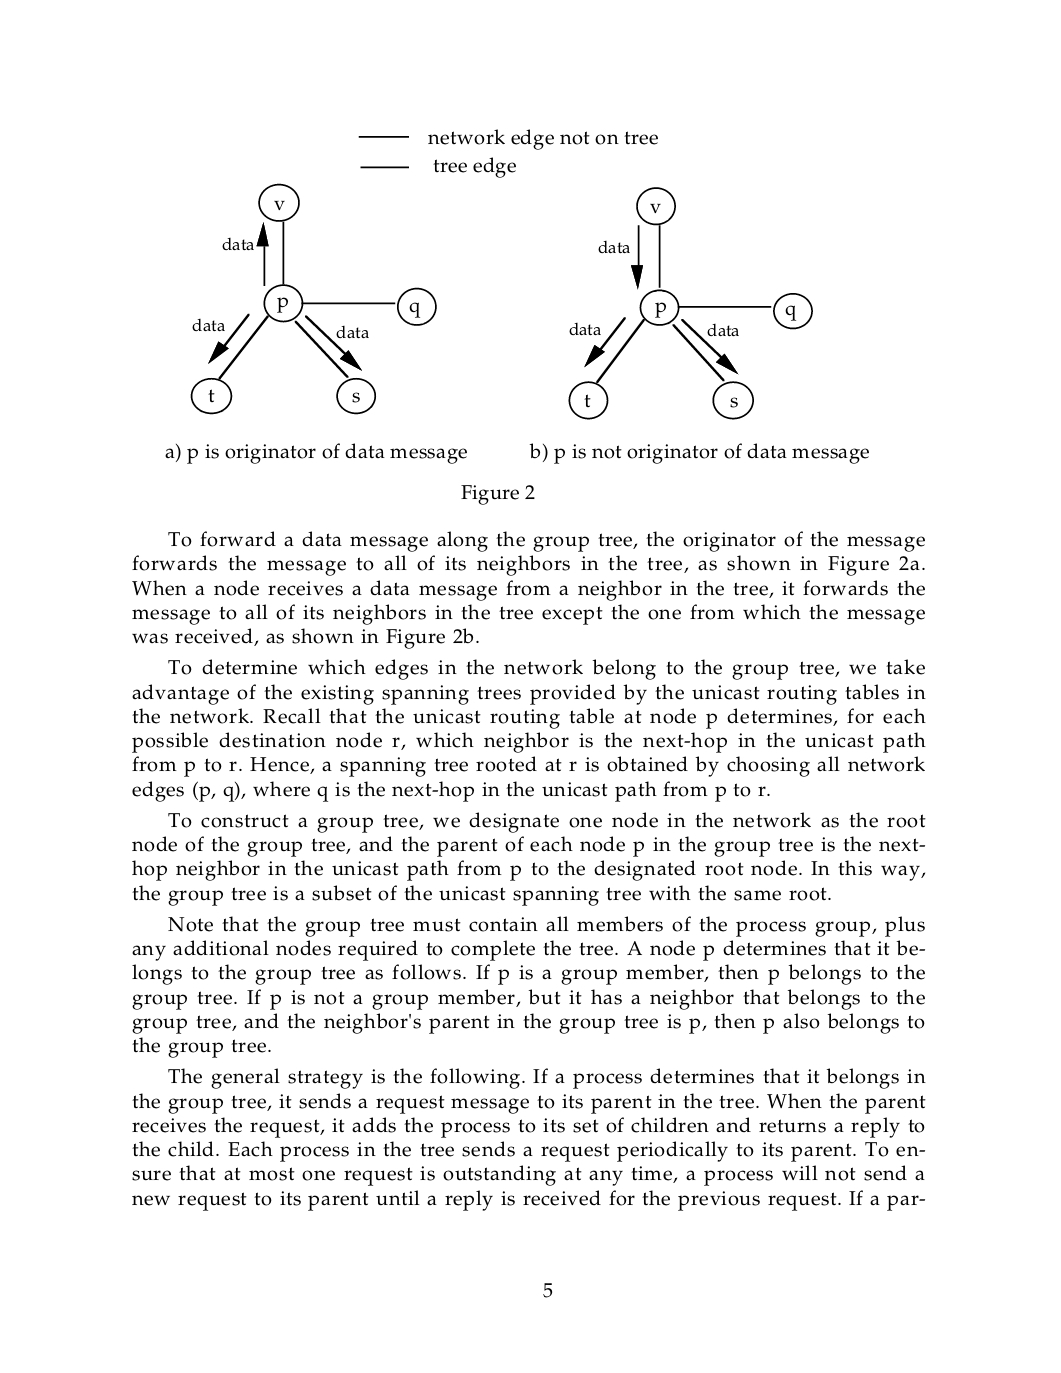figure: (568, 185, 812, 420), (189, 182, 436, 415)
